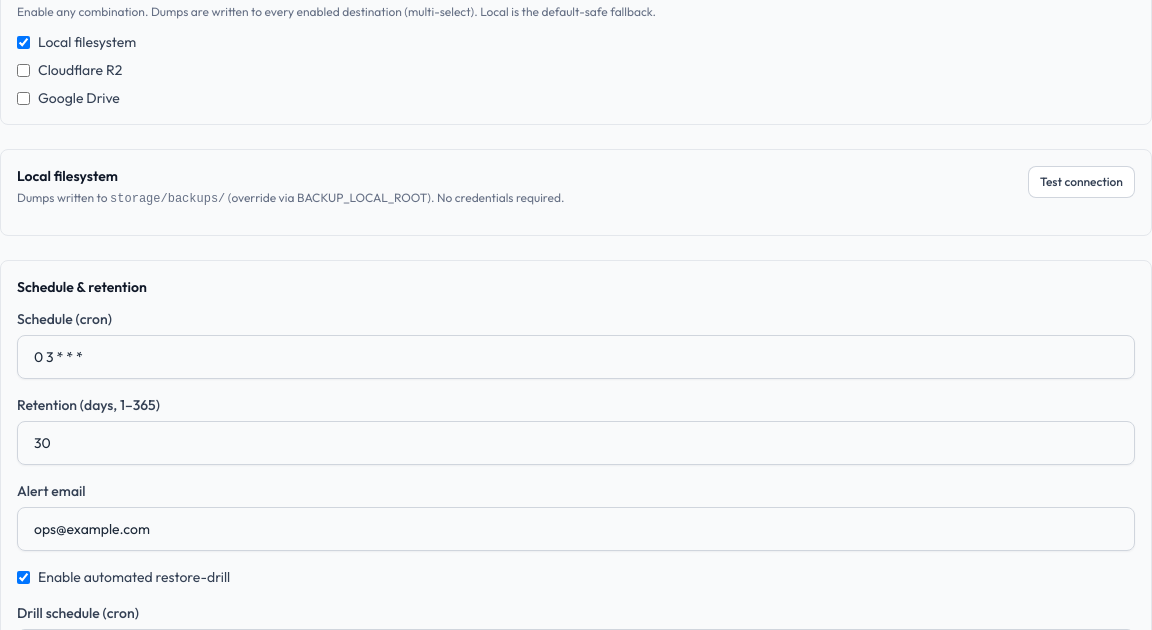
Pitfall 7: secret credential fields render EMPTY (never pre-filled) › r2.secretAccessKey renders with an empty value even though non-secret fields pre-fill
Note: Enable r2 so its credential section is visible.
Click the checkbox labelled "Cloudflare R2".
click(24, 70)  # box [17, 64, 30, 76]
(page scrolled)
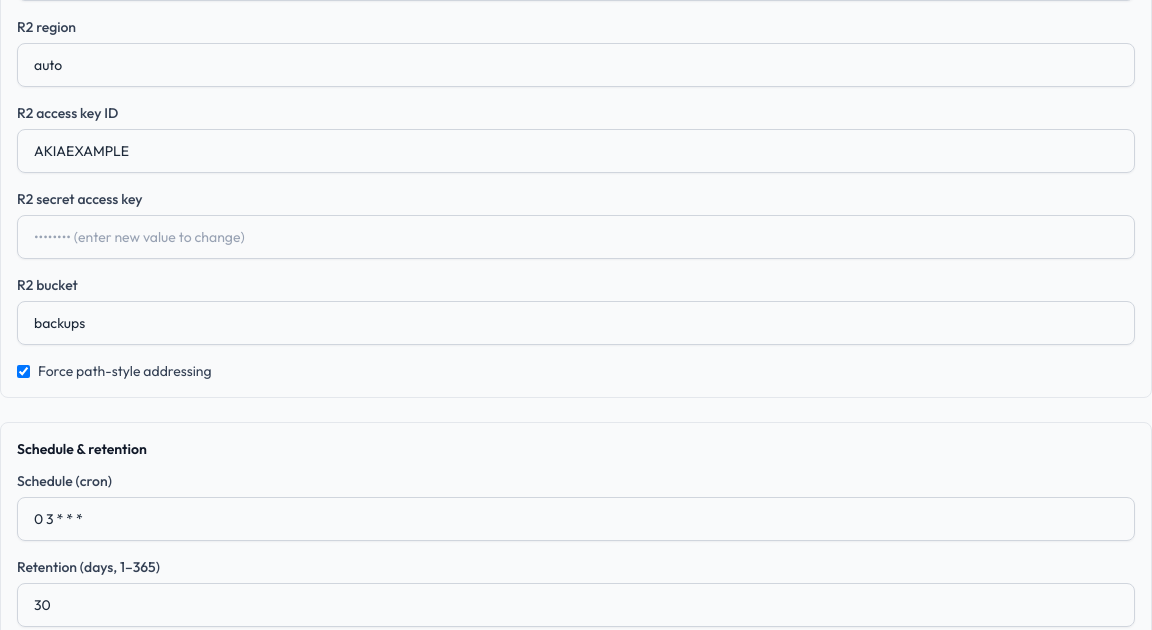
Expected: the password field labelled "R2 secret access key" is empty, [17, 215, 1135, 259]
Expected: the field labelled "R2 bucket" holds "backups", [17, 301, 1135, 345]
